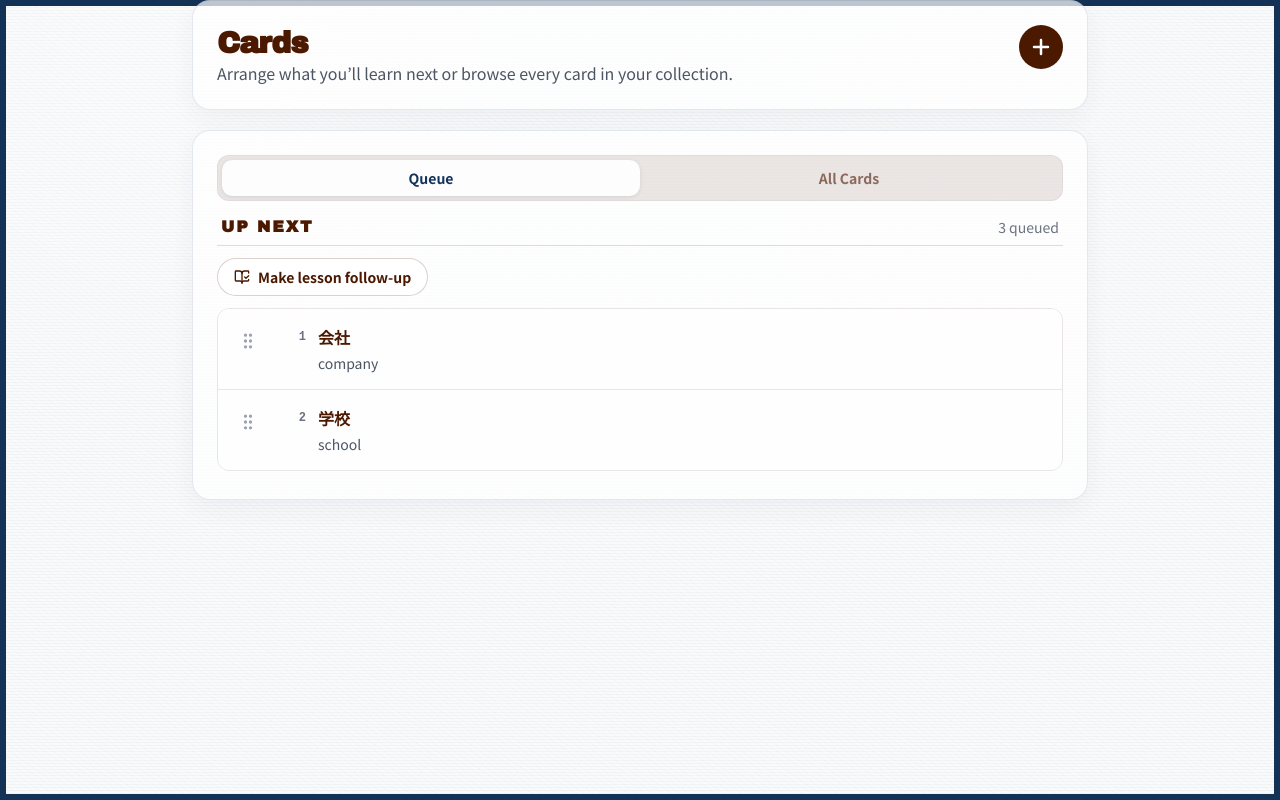
Test: StudyCardsPage › shows the iOS-style Queue and All Cards collections
This screenshot has width=1280, height=800.
Expected: the heading "Cards" is shown, [217,27,308,59]
Expected: the text "会社" is shown, [318,325,350,349]
Click the tab "All Cards": (849,178) [640,160,1058,196]
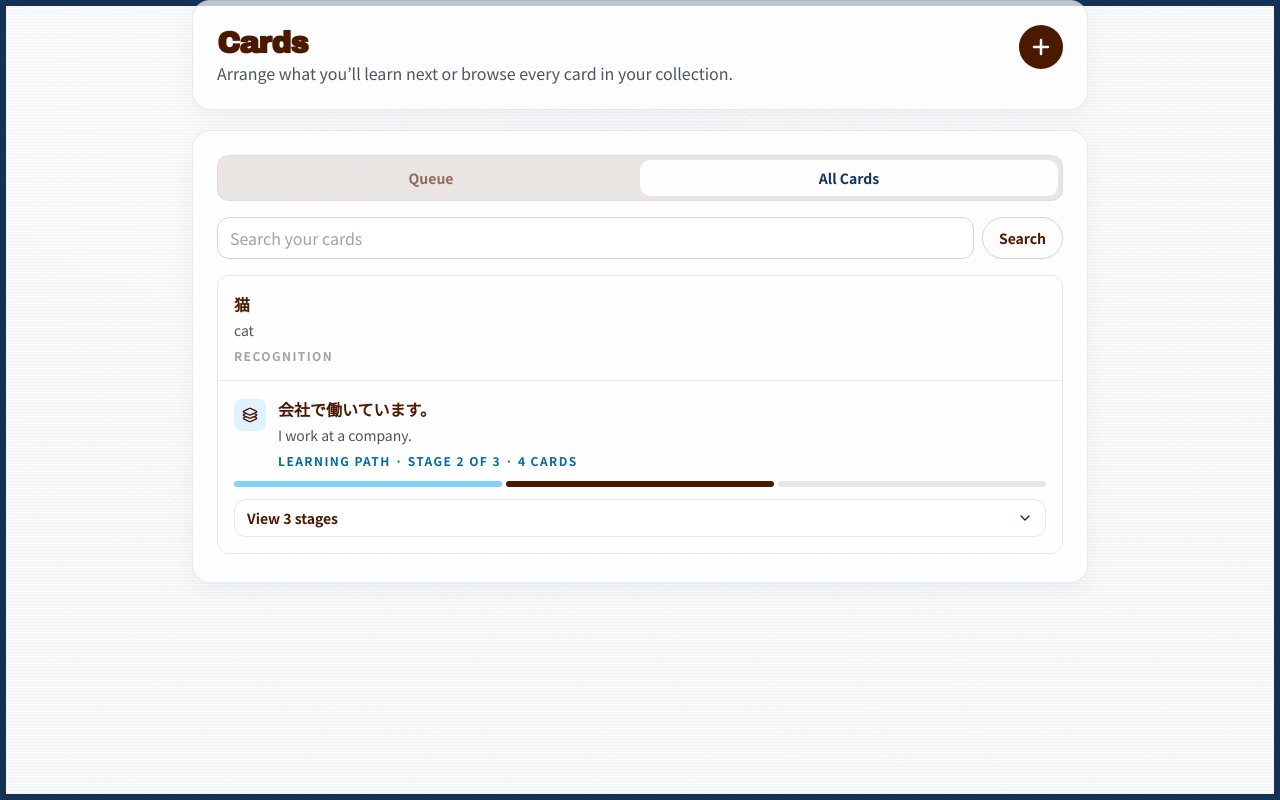
Now the text "猫" is shown, box [234,292,250,316]
Now the text "Stage 2 of 3" is shown, box [408,452,501,469]
Now the text "4 cards" is shown, box [518,452,578,469]
Click the heading "View 3 stages": (292,518) [247,508,1033,528]
(page scrolled)
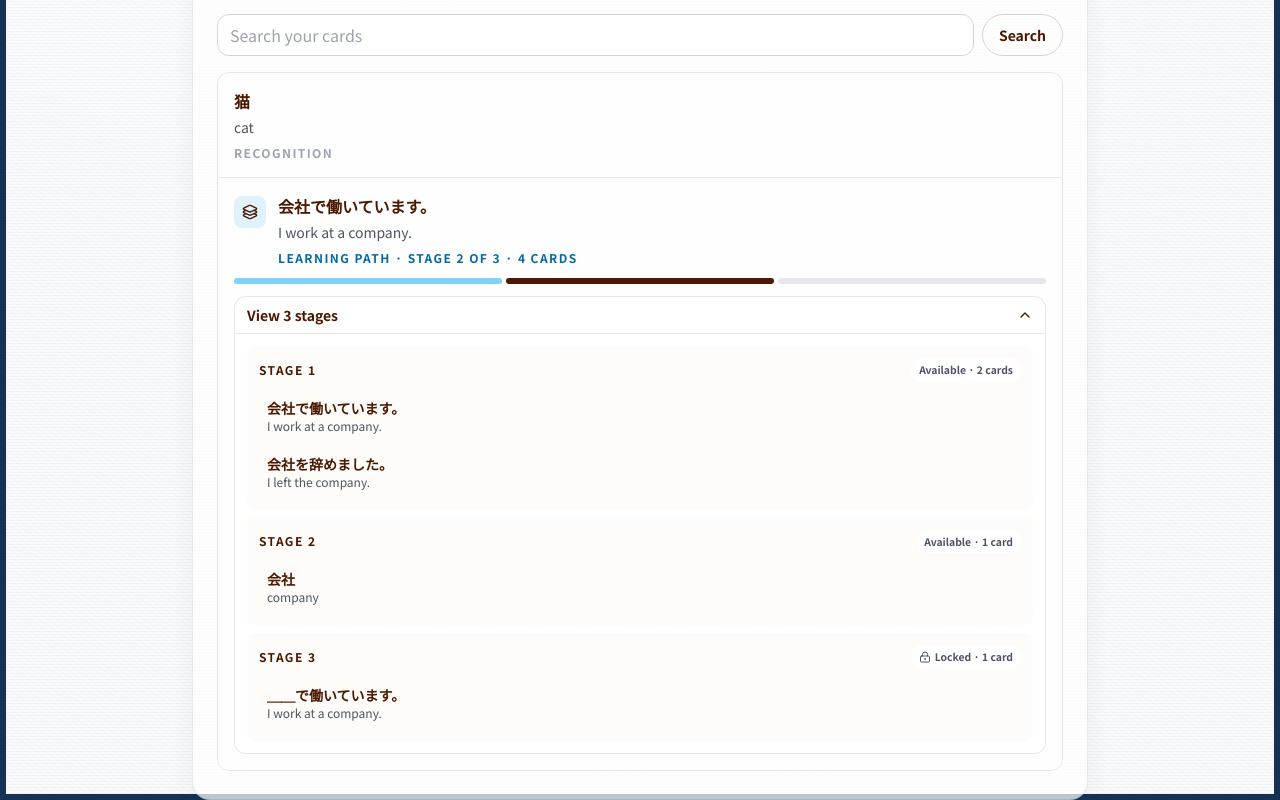
Now the text "会社を辞めました。" is shown, box [267,454,393,474]
Now the text "Locked" is shown, box [935,649,971,664]
